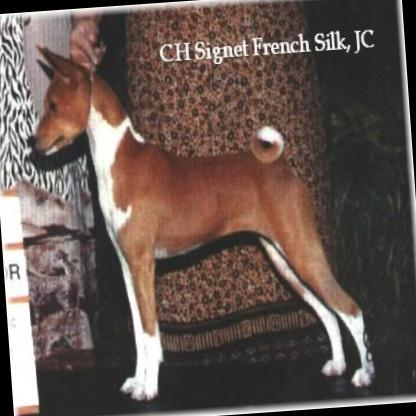basenji: (20, 24, 374, 405)
